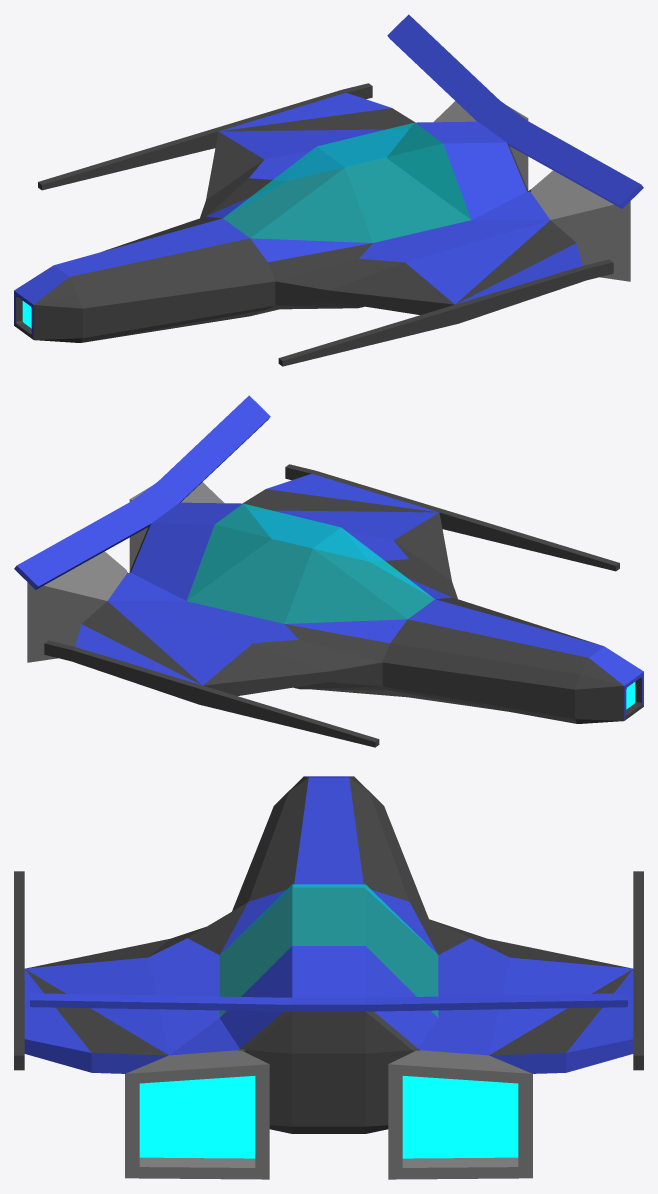
Rendered from ship8.fbx.
3 views of the same model, one above another, from view 1: azimuth 30°, elevation 25°; view 2: azimuth 150°, elevation 25°; view 3: azimuth 270°, elevation 25° (orthographic). The views are drawn at different scales.
Parts seen in each view (by area): view 1: Cube; view 2: Cube; view 3: Cube.
Boxes of the visible parts, box(x1,y1,x2,y2) form: Cube: box(14, 14, 643, 366); Cube: box(14, 395, 643, 747); Cube: box(14, 776, 643, 1179).
Bounding box in the file's own units: 598 × 148 × 480.
